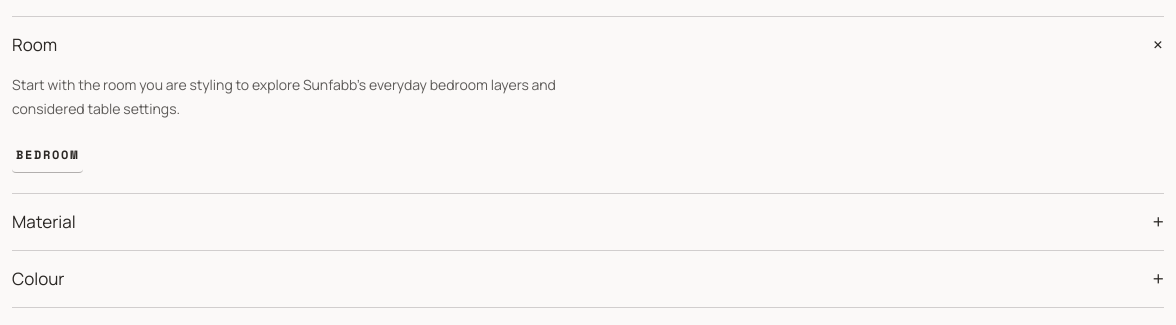
Scenario: ShoppingFacetAccordion › starts with Room open and keeps one panel open at a time
The image size is (1176, 325).
What coordinates should you click on to do the following:
click the button "Material +"
I would click on:
 (44, 222)
Its box is [12, 194, 1164, 250].
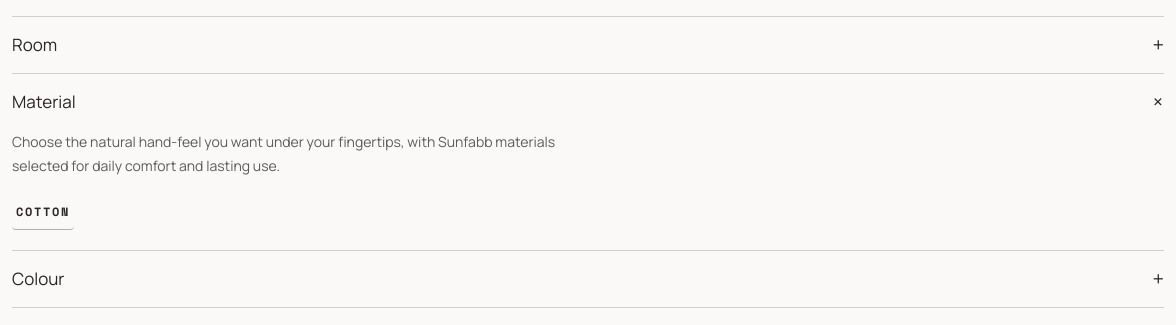
Expected: the button "Room +" is collapsed, [12, 17, 1164, 73]
Expected: the button "Material +" is expanded
What coordinates should you click on to do the following:
click the button "Material +"
I would click on:
 (44, 102)
Its box is [12, 74, 1164, 130].
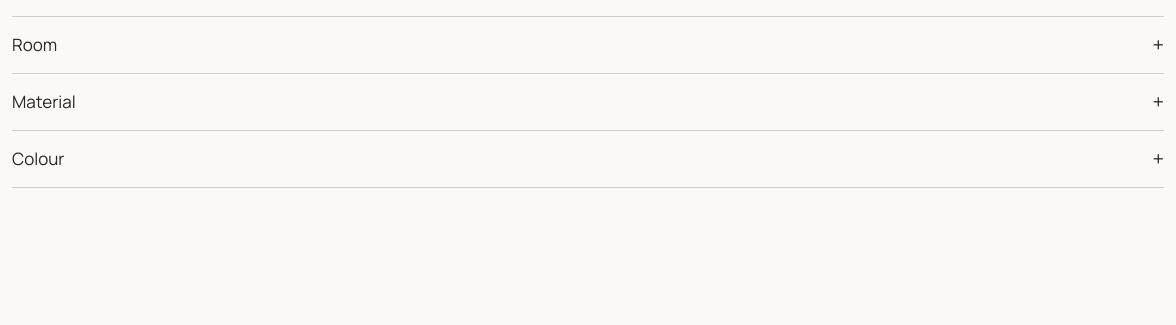
Expected: the button "Material +" is collapsed, [12, 74, 1164, 130]
